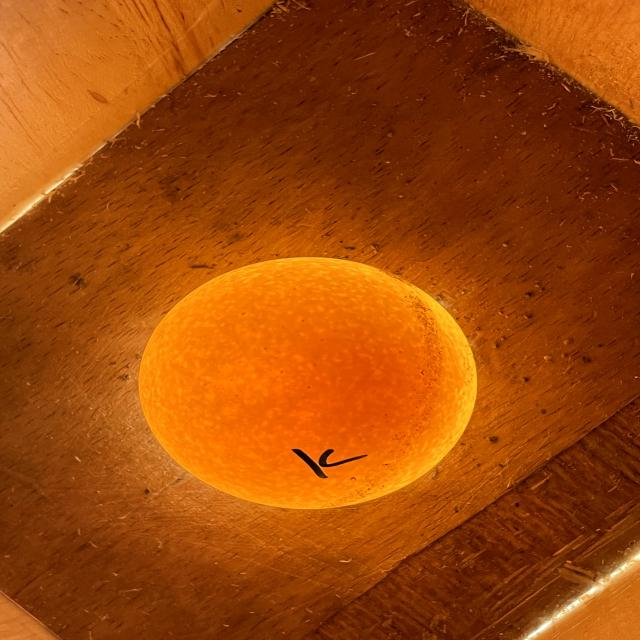infertile: (138, 258, 477, 509)
